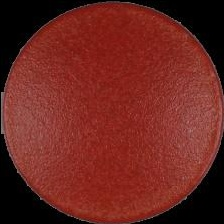0615-0830: (0, 0, 224, 224)
